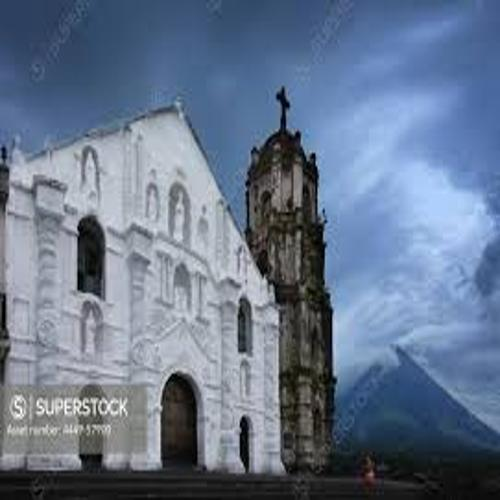Daraga Church: (8, 72, 336, 477)
